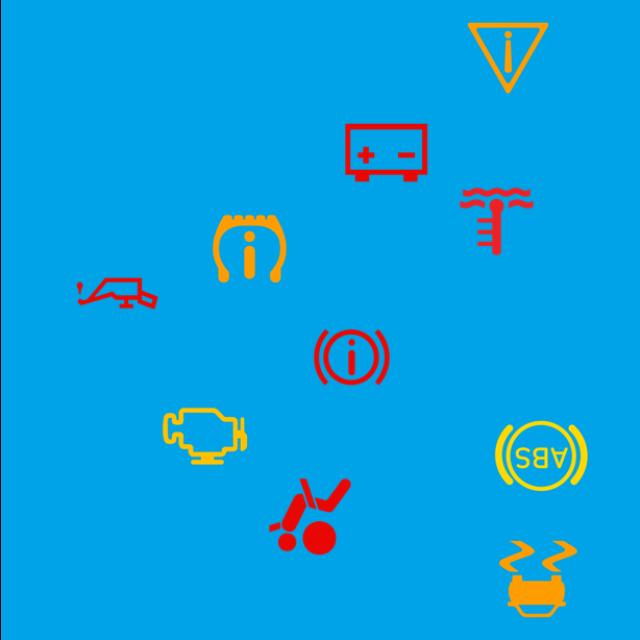Anti Lock Braking System: (490, 406, 591, 506)
Braking System Issue: (300, 306, 401, 408)
Charging System Issue: (334, 102, 436, 203)
Check Engine: (153, 386, 254, 486)
Electronic Stability Problem -ESP-: (487, 528, 588, 630)
Engine Overheating Warning Light: (445, 171, 546, 272)
Low Engine Oil Warning Light: (66, 243, 166, 344)
Low Tire Pressure Warning Light: (198, 198, 299, 299)
Master warning light: (457, 8, 558, 108)
SRS-Airbag: (258, 466, 359, 567)
